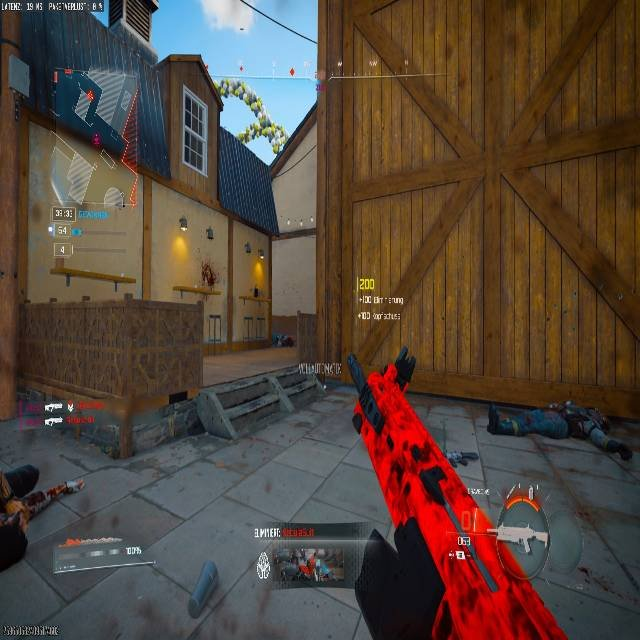head: (2, 463, 39, 495)
